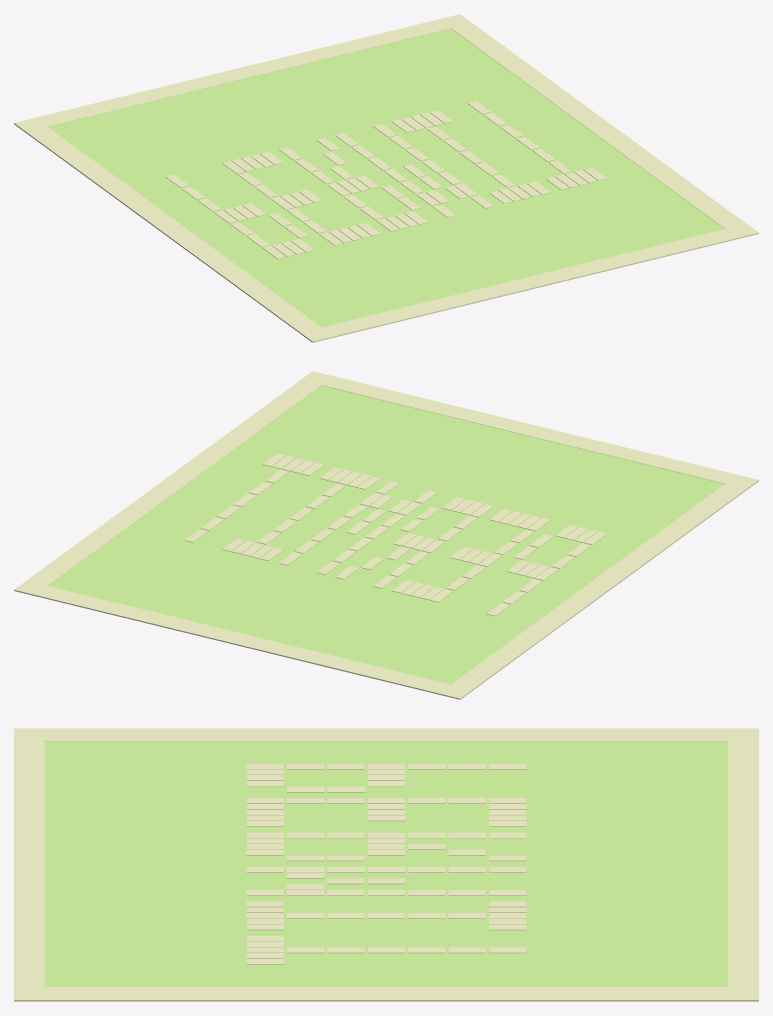
The model's file is marking_permit_only_box_green.glb.
3 renders of one model, top to bottom at view 1: azimuth 30°, elevation 25°; view 2: azimuth 150°, elevation 25°; view 3: azimuth 270°, elevation 25°, orthographic. The views are drawn at different scales.
Visible parts, largest first — view 1: permit_only_box_fill, permit_only_box_left, permit_only_box_bottom, permit_only_box_right, permit_only_box_top; view 2: permit_only_box_fill, permit_only_box_left, permit_only_box_top, permit_only_box_right, permit_only_box_bottom; view 3: permit_only_box_fill, permit_only_box_right, permit_only_box_left, permit_only_box_top, permit_only_box_bottom.
Part boxes in pixels (<box>): permit_only_box_fill: <box>48,28,724,327</box>; permit_only_box_left: <box>26,127,321,333</box>; permit_only_box_bottom: <box>300,224,758,342</box>; permit_only_box_right: <box>451,23,746,228</box>; permit_only_box_top: <box>14,14,471,132</box>; permit_only_box_fill: <box>48,385,724,684</box>; permit_only_box_left: <box>451,484,746,690</box>; permit_only_box_top: <box>14,581,472,699</box>; permit_only_box_right: <box>26,380,321,585</box>; permit_only_box_bottom: <box>301,371,758,489</box>; permit_only_box_fill: <box>44,741,728,986</box>; permit_only_box_right: <box>44,987,728,1001</box>; permit_only_box_left: <box>44,728,728,741</box>; permit_only_box_top: <box>728,728,758,1001</box>; permit_only_box_bottom: <box>14,728,44,1001</box>.
Bounding box in the file's own units: 1.88 × 0.006 × 2.18.
